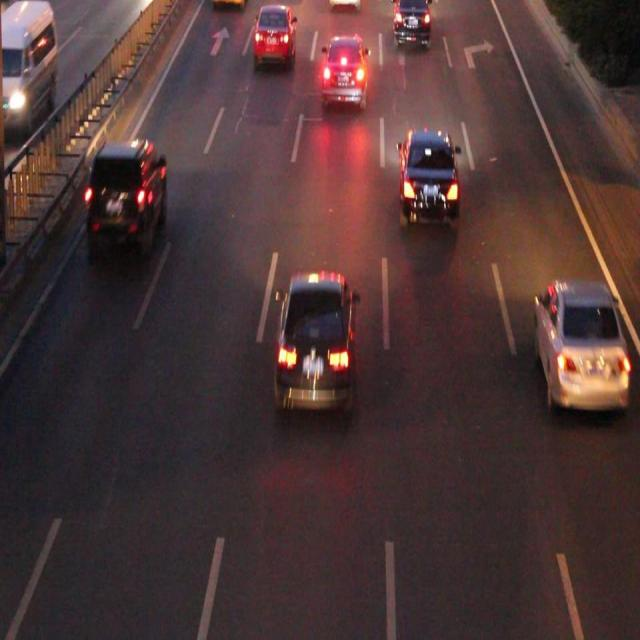car: (534, 285, 627, 404), (280, 273, 354, 405), (90, 145, 166, 252), (398, 129, 457, 221), (321, 39, 364, 102), (254, 1, 295, 59), (394, 1, 429, 46), (214, 1, 243, 10), (330, 1, 358, 8)
